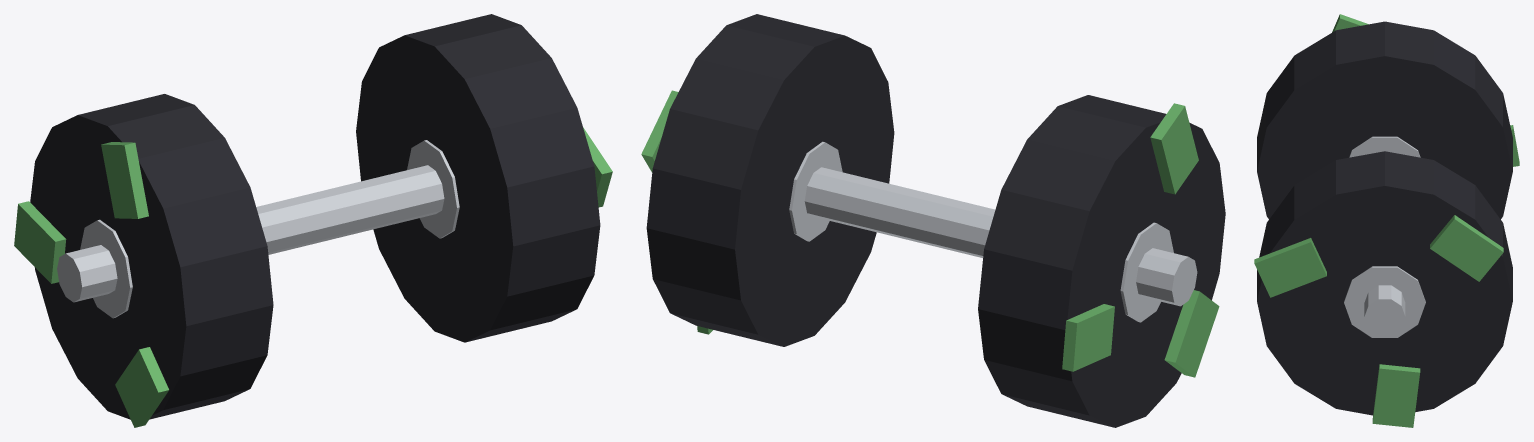
Rendered from gym_silver_dumbbell.glb.
3 renders of one model, left to right at view 1: azimuth 30°, elevation 25°; view 2: azimuth 150°, elevation 25°; view 3: azimuth 270°, elevation 25°, orthographic. The views are drawn at different scales.
Parts seen in each view (by area): view 1: plates_silver_plate, bar_bar_steel, bills_bill_green, plates_bar_steel; view 2: plates_silver_plate, bar_bar_steel, bills_bill_green, plates_bar_steel; view 3: plates_silver_plate, bills_bill_green, plates_bar_steel, bar_bar_steel.
Boxes of the visible parts, bbox=[...] form: plates_silver_plate: bbox=[30, 14, 600, 419]; bar_bar_steel: bbox=[57, 165, 444, 302]; bills_bill_green: bbox=[14, 127, 612, 427]; plates_bar_steel: bbox=[80, 140, 459, 318]; plates_silver_plate: bbox=[646, 14, 1225, 427]; bar_bar_steel: bbox=[804, 167, 1197, 306]; bills_bill_green: bbox=[641, 90, 1219, 377]; plates_bar_steel: bbox=[789, 141, 1173, 322]; plates_silver_plate: bbox=[1257, 21, 1512, 415]; bills_bill_green: bbox=[1254, 14, 1519, 427]; plates_bar_steel: bbox=[1344, 136, 1425, 337]; bar_bar_steel: bbox=[1364, 285, 1405, 334].
Bounding box in the file's own units: 0.9 × 0.5197 × 0.5181.
